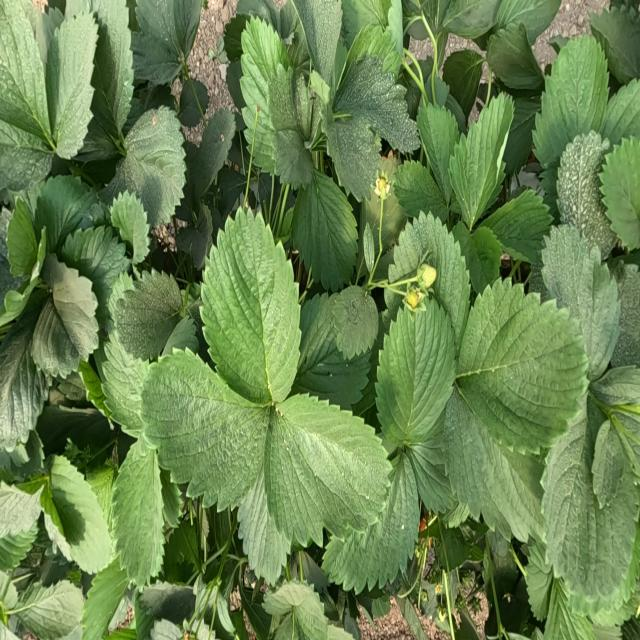Flowers: (435, 584, 441, 594)
Leaves: (459, 284, 586, 451), (141, 349, 269, 506), (542, 401, 636, 606), (265, 394, 391, 546), (201, 209, 299, 403), (442, 387, 543, 536), (324, 453, 419, 589), (542, 224, 620, 380), (376, 301, 455, 447), (388, 212, 470, 340), (98, 107, 185, 225), (534, 34, 607, 169), (297, 287, 378, 406), (69, 0, 133, 136), (30, 254, 99, 379), (450, 92, 514, 225), (333, 56, 420, 152), (239, 15, 290, 174), (556, 131, 618, 259), (292, 170, 358, 289), (44, 11, 98, 156), (47, 456, 112, 572), (113, 440, 163, 586), (61, 225, 130, 324), (1, 302, 46, 450), (0, 2, 47, 141), (113, 270, 182, 359), (238, 468, 290, 583), (95, 331, 147, 436), (480, 188, 551, 263), (225, 0, 303, 60), (325, 117, 381, 200), (405, 423, 456, 513), (189, 107, 235, 206), (599, 137, 639, 249), (36, 176, 96, 250), (362, 151, 406, 251), (293, 0, 341, 84), (135, 1, 201, 61), (16, 580, 83, 639), (417, 103, 458, 198), (1, 118, 53, 192), (590, 5, 639, 83), (328, 285, 379, 359), (81, 559, 128, 639), (263, 581, 327, 639), (591, 367, 639, 443), (488, 25, 543, 90), (608, 261, 639, 369), (504, 90, 541, 176), (345, 24, 401, 80), (392, 161, 447, 217), (493, 0, 561, 42), (545, 581, 594, 639), (442, 49, 483, 117), (111, 191, 149, 263), (452, 221, 491, 291), (599, 79, 639, 146), (6, 197, 38, 274), (138, 582, 195, 623), (524, 537, 552, 619), (0, 482, 42, 536), (274, 129, 313, 187), (342, 1, 391, 45), (445, 0, 499, 37), (106, 270, 135, 336), (269, 63, 297, 129), (178, 79, 209, 127), (1, 530, 36, 571), (236, 0, 279, 32), (218, 167, 245, 217), (293, 69, 311, 140), (160, 470, 181, 526), (224, 15, 249, 62), (196, 203, 213, 268), (363, 223, 380, 280), (226, 60, 245, 110), (176, 226, 202, 253)
Strawberries: (419, 265, 435, 287), (406, 290, 420, 309), (438, 609, 449, 631), (377, 178, 387, 197), (419, 517, 427, 532)
